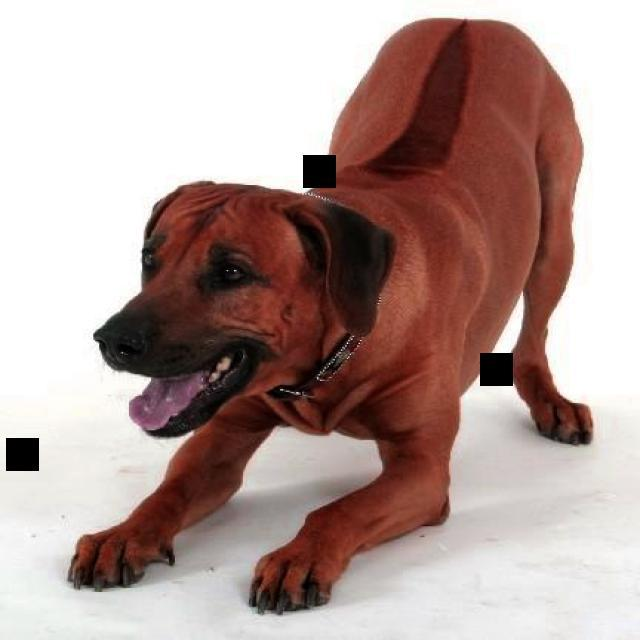adult_dog: (66, 12, 595, 615)
